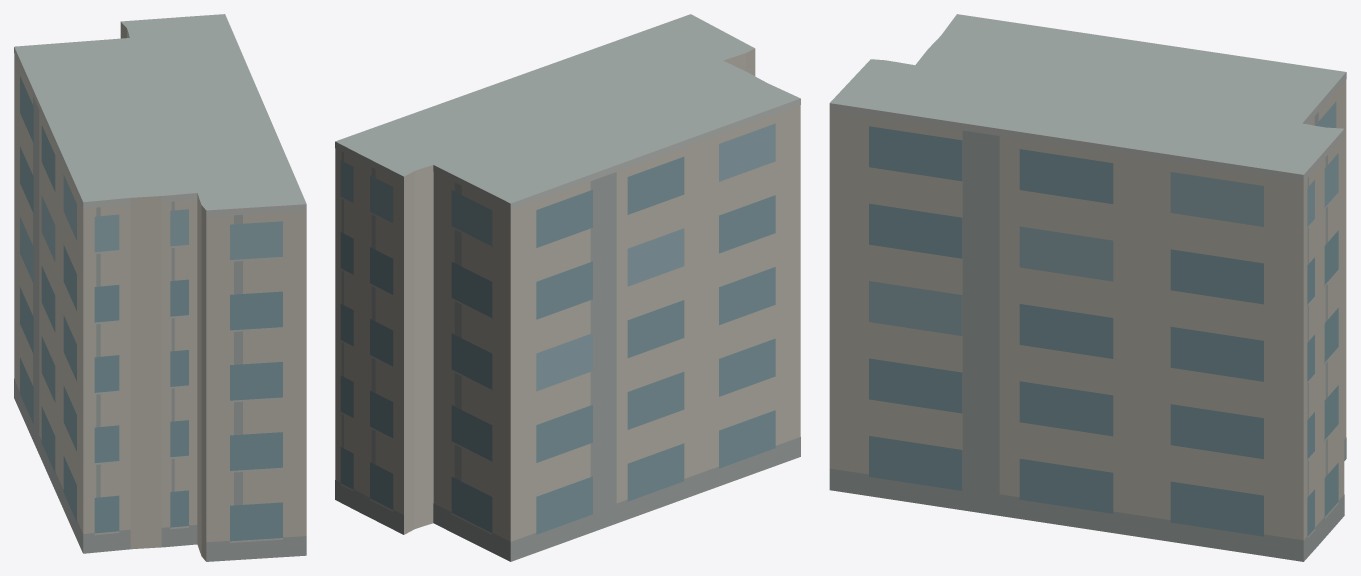
Rendered from survey-upis-32854258.glb.
3 views of the same model, side by side, from view 1: azimuth 30°, elevation 25°; view 2: azimuth 150°, elevation 25°; view 3: azimuth 270°, elevation 25° (orthographic). The views are drawn at different scales.
Parts seen in each view (by area): view 1: survey-upis-32854258.tmp; view 2: survey-upis-32854258.tmp; view 3: survey-upis-32854258.tmp.
Part boxes in pixels (x1,y1,x2,y2): survey-upis-32854258.tmp: [14, 14, 306, 561]; survey-upis-32854258.tmp: [335, 14, 800, 561]; survey-upis-32854258.tmp: [829, 14, 1346, 561].
Size of the model in its own units: 11.6 by 13 by 15.74.
